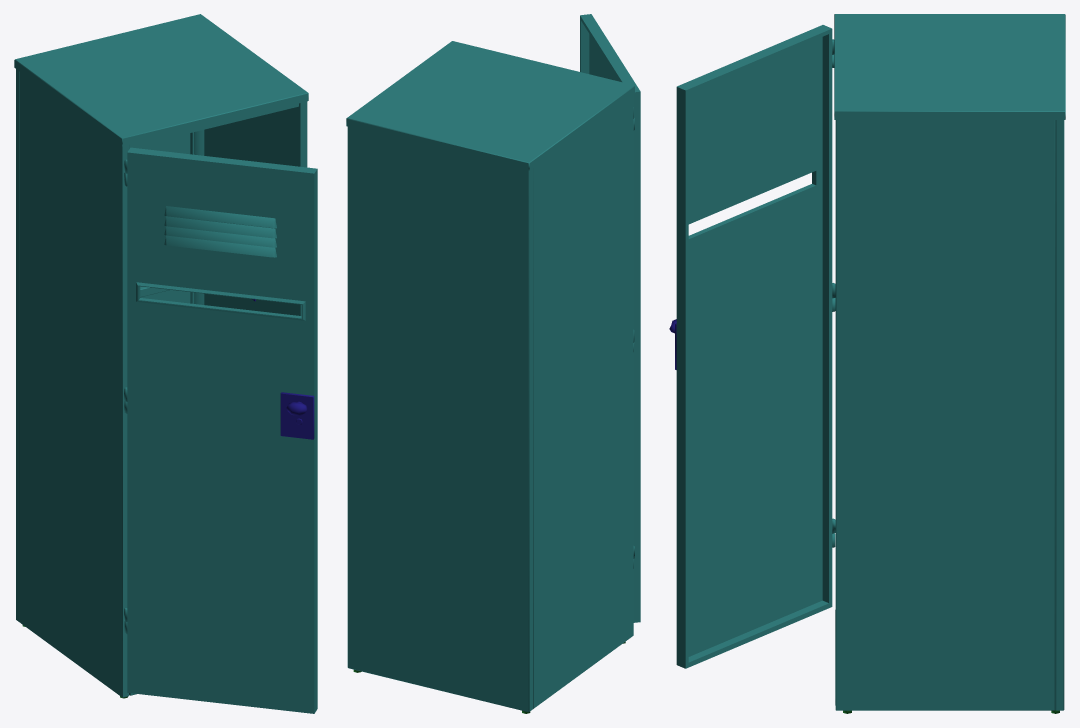
The model's file is WaredrobeV5_LP.fbx.
3 views of the same model, side by side, from view 1: azimuth 30°, elevation 25°; view 2: azimuth 150°, elevation 25°; view 3: azimuth 270°, elevation 25° (orthographic). The views are drawn at different scales.
Visible parts, largest first — view 1: Group001, Base_LP; view 2: Base_LP, Group001; view 3: Base_LP, Group001.
Boxes of the visible parts, x1,y1,x2,y2 form: Group001: (124, 147, 317, 713); Base_LP: (14, 14, 308, 697); Base_LP: (346, 41, 634, 712); Group001: (580, 14, 640, 622); Base_LP: (834, 14, 1065, 710); Group001: (669, 25, 835, 705).
Bounding box in the file's own units: 45.41 × 77.9 × 131.
